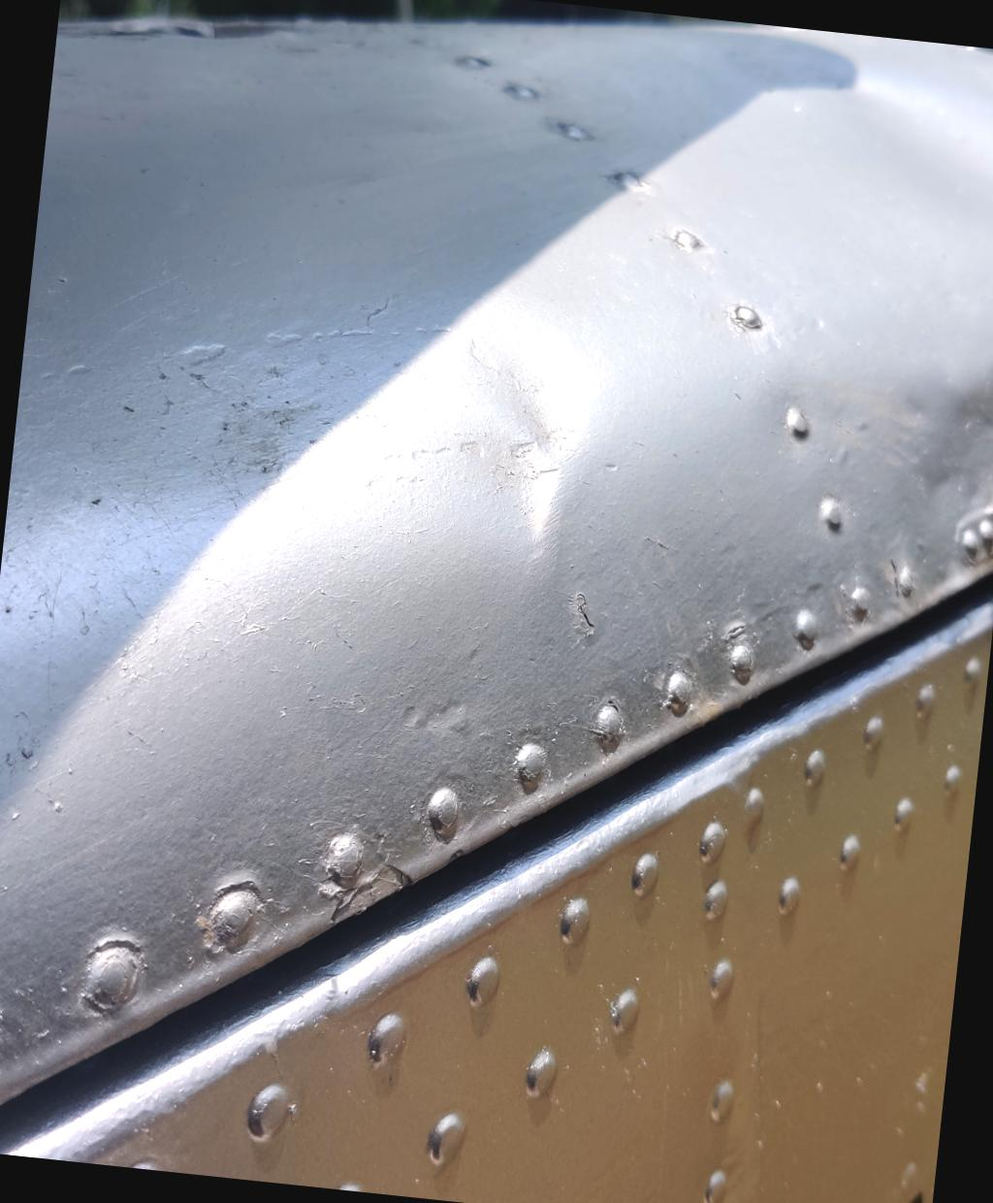dent: (378, 272, 643, 607)
